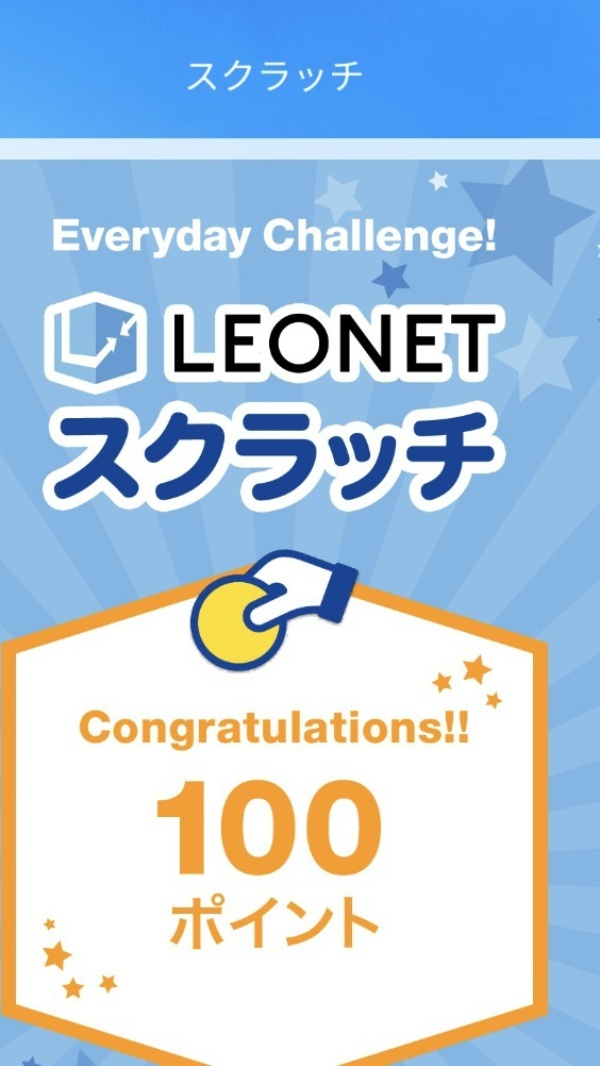text: (161, 780, 176, 877), (177, 780, 192, 877), (193, 780, 208, 877), (209, 780, 224, 877), (225, 780, 240, 877), (241, 780, 256, 877), (257, 780, 272, 877), (273, 780, 288, 877), (289, 780, 304, 877), (305, 780, 320, 877), (321, 780, 336, 877), (337, 780, 352, 877), (353, 780, 368, 877), (65, 413, 80, 503), (81, 413, 96, 503), (97, 413, 112, 503), (113, 413, 128, 503), (129, 413, 144, 503), (145, 413, 160, 503), (161, 413, 176, 503), (177, 413, 192, 503), (193, 413, 208, 503), (209, 413, 224, 503), (225, 413, 240, 503), (241, 413, 256, 503), (257, 413, 272, 503), (273, 413, 288, 503), (289, 413, 304, 503), (305, 413, 320, 503), (321, 413, 336, 503), (337, 413, 352, 503), (353, 413, 368, 503), (369, 413, 384, 503), (385, 413, 400, 503), (401, 413, 416, 503), (417, 413, 432, 503), (433, 413, 448, 503), (449, 413, 464, 503), (465, 413, 480, 503), (369, 780, 382, 877), (481, 413, 495, 503), (177, 316, 192, 376), (193, 316, 208, 376), (209, 316, 224, 376), (225, 316, 240, 376), (241, 316, 256, 376), (257, 316, 272, 376), (273, 316, 288, 376), (289, 316, 304, 376), (305, 316, 320, 376), (321, 316, 336, 376), (337, 316, 352, 376), (353, 316, 368, 376), (369, 316, 384, 376), (385, 316, 400, 376), (401, 316, 416, 376), (417, 316, 432, 376), (433, 316, 448, 376), (449, 316, 464, 376), (465, 316, 480, 376), (481, 316, 496, 376), (177, 895, 192, 952), (193, 895, 208, 952), (209, 895, 224, 952), (225, 895, 240, 952), (241, 895, 256, 952), (257, 895, 272, 952), (273, 895, 288, 952), (289, 895, 304, 952), (305, 895, 320, 952), (321, 895, 336, 952), (337, 895, 352, 952), (353, 895, 368, 952), (81, 710, 96, 760), (97, 710, 112, 760), (113, 710, 128, 760), (129, 710, 144, 760), (145, 710, 160, 760), (161, 710, 176, 760), (177, 710, 192, 760), (193, 710, 208, 760), (209, 710, 224, 760), (225, 710, 240, 760), (241, 710, 256, 760), (257, 710, 272, 760), (273, 710, 288, 760), (289, 710, 304, 760), (305, 710, 320, 760), (321, 710, 336, 760), (337, 710, 352, 760), (353, 710, 368, 760), (369, 710, 384, 760), (385, 710, 400, 760), (401, 710, 416, 760), (417, 710, 432, 760), (433, 710, 448, 760), (449, 710, 464, 760), (481, 219, 497, 262), (65, 219, 80, 262), (81, 219, 96, 262), (97, 219, 112, 262), (113, 219, 128, 262), (129, 219, 144, 262), (145, 219, 160, 262), (161, 219, 176, 262), (177, 219, 192, 262), (193, 219, 208, 262), (209, 219, 224, 262), (225, 219, 240, 262), (273, 219, 288, 262), (289, 219, 304, 262), (305, 219, 320, 262), (321, 219, 336, 262), (337, 219, 352, 262), (353, 219, 368, 262), (369, 219, 384, 262), (385, 219, 400, 262), (401, 219, 416, 262), (417, 219, 432, 262), (433, 219, 448, 262), (449, 219, 464, 262), (465, 219, 480, 262), (241, 219, 255, 262), (369, 895, 379, 952), (193, 60, 208, 94), (209, 60, 224, 94), (225, 60, 240, 94), (241, 60, 256, 94), (257, 60, 272, 94), (273, 60, 288, 94), (289, 60, 304, 94), (305, 60, 320, 94), (321, 60, 336, 94), (337, 60, 352, 94), (53, 219, 64, 262), (264, 219, 272, 262), (353, 60, 362, 94), (465, 710, 469, 760), (158, 780, 160, 877), (62, 413, 64, 503), (173, 895, 176, 952), (175, 316, 176, 376), (79, 710, 80, 760), (191, 60, 192, 94)
